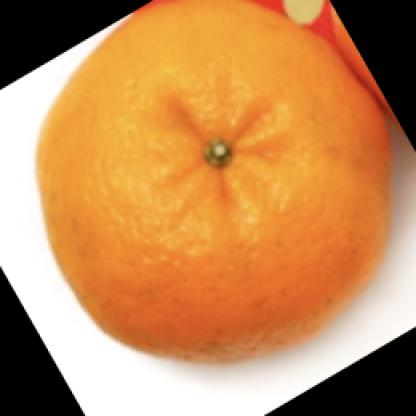fresh: (36, 1, 393, 361)
